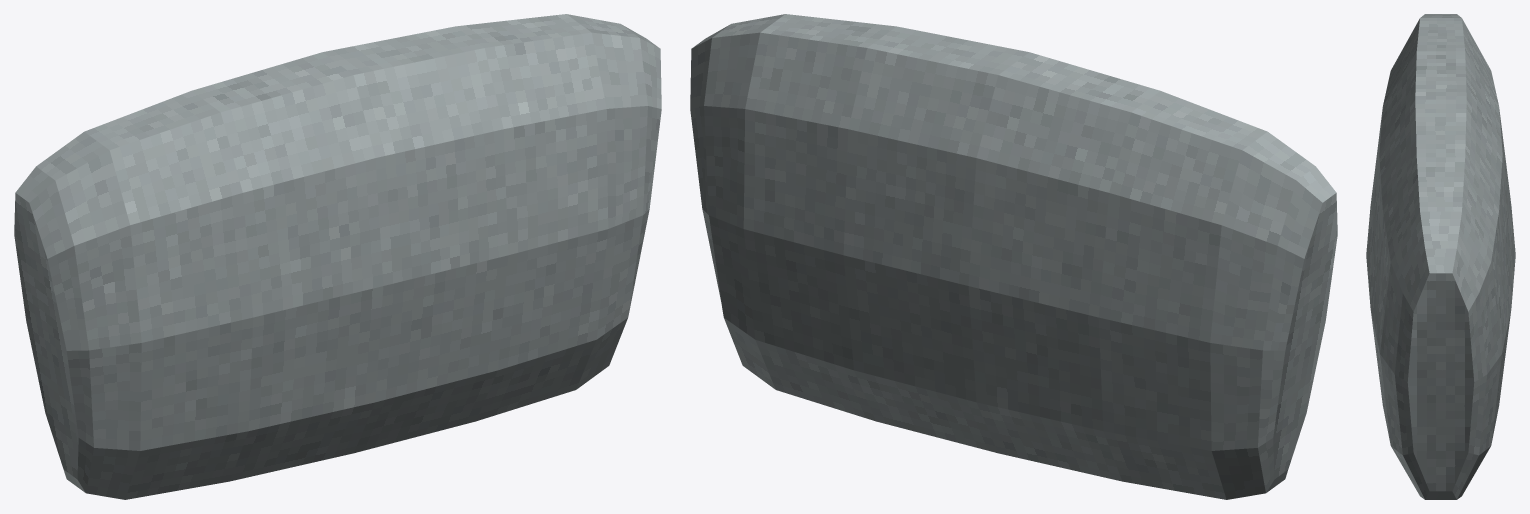
Rendered from pillow.glb.
3 renders of one model, left to right at view 1: azimuth 30°, elevation 25°; view 2: azimuth 150°, elevation 25°; view 3: azimuth 270°, elevation 25°, orthographic. The views are drawn at different scales.
Visible parts, largest first — view 1: pillow; view 2: pillow; view 3: pillow.
Boxes of the visible parts, x1,y1,x2,y2 form: pillow: (14, 14, 661, 499); pillow: (690, 14, 1337, 499); pillow: (1366, 14, 1515, 499).
Size of the model in its own units: 1.08 by 0.62 by 0.27.
Materials: 1 (1 with a texture image).
